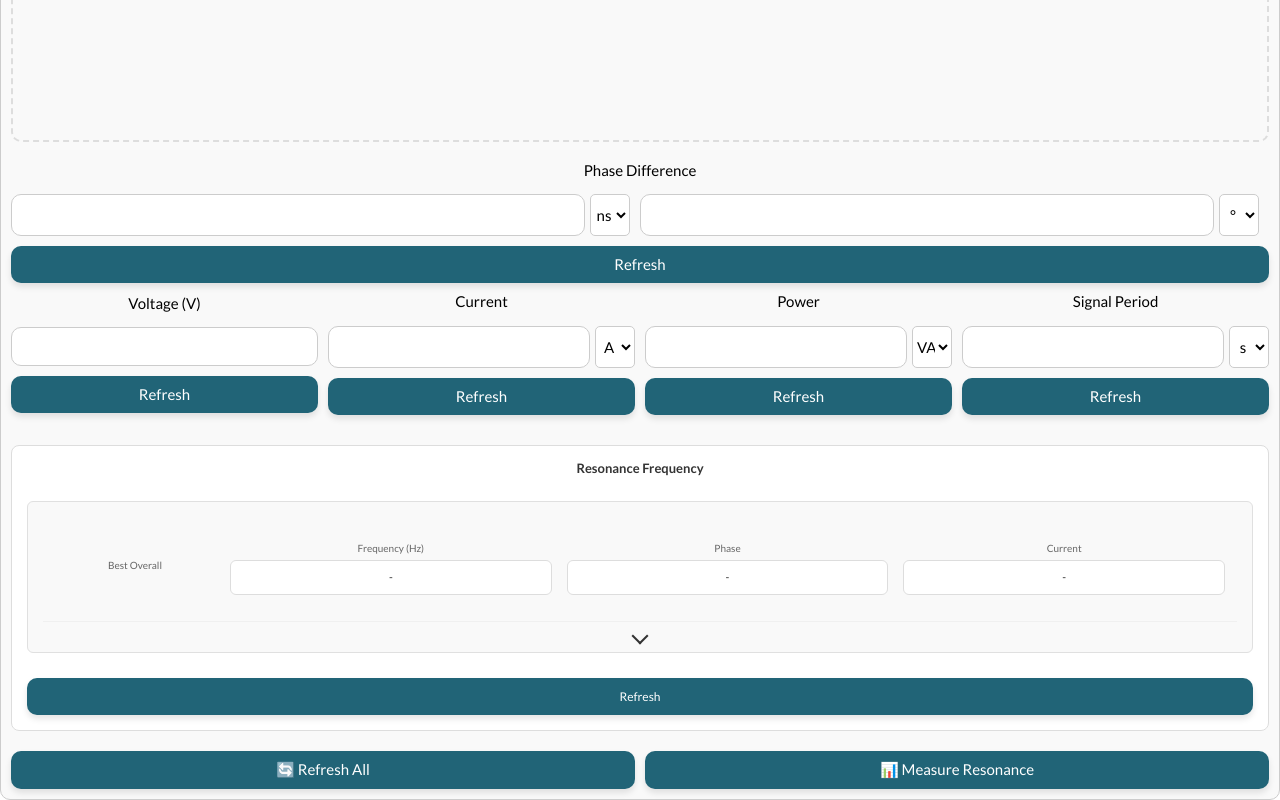
Test: MonitoringPanel › handles API errors gracefully
(page scrolled)
Click the button "🔄 Refresh All" at (323, 770), box [11, 752, 635, 789]
(page scrolled)
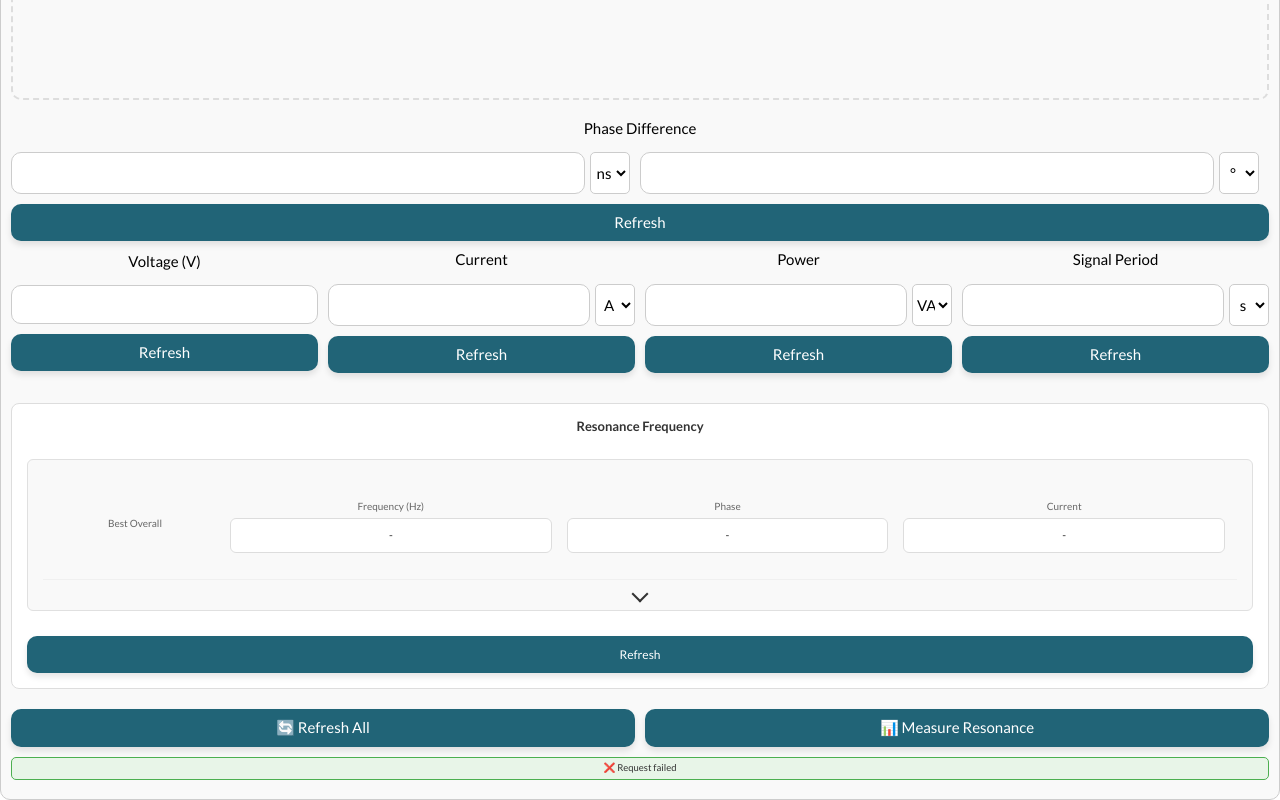
Check: the text "❌ Request failed" is shown, box [11, 757, 1269, 780]
